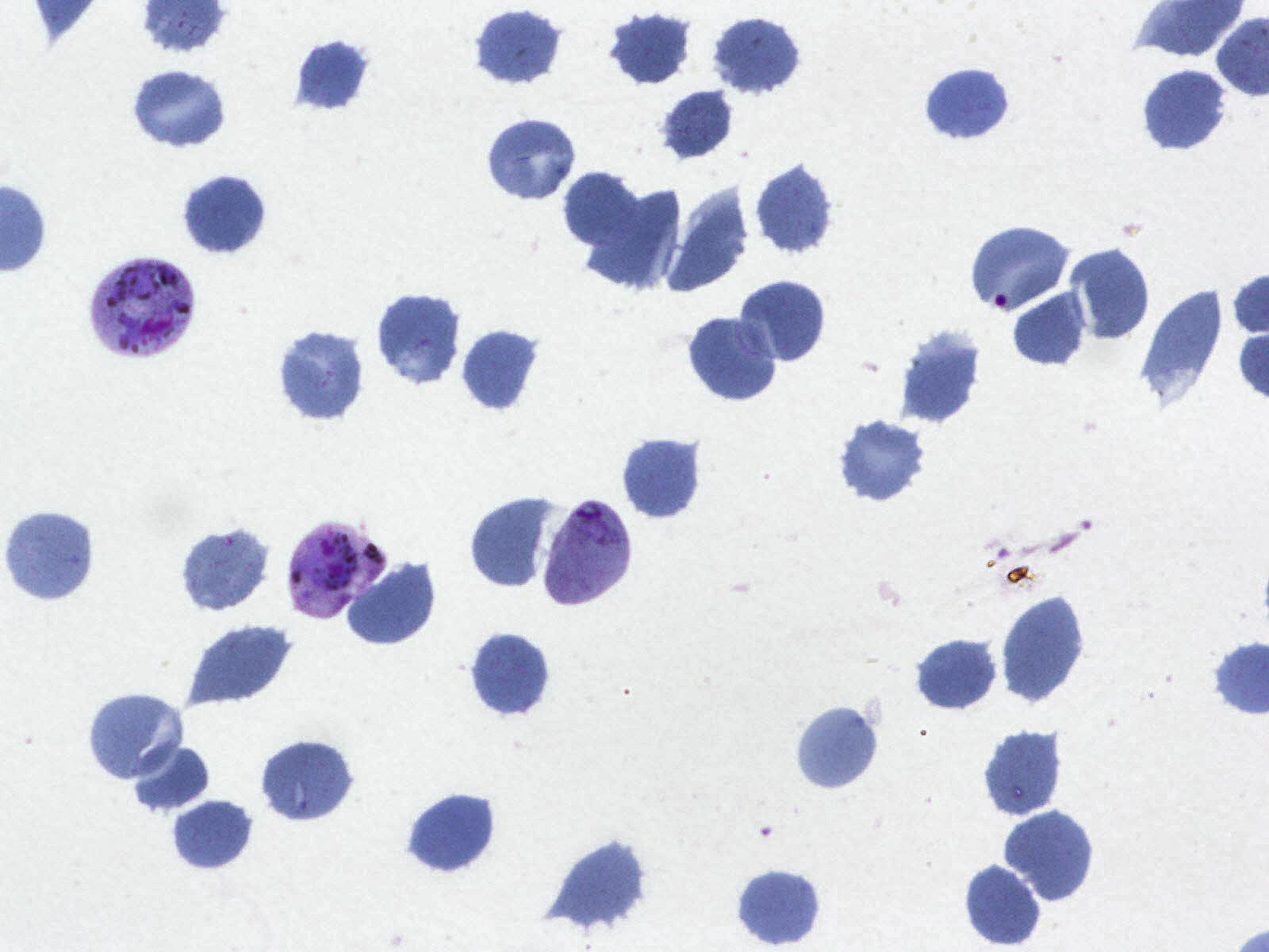Infected: (90, 258, 194, 359), (285, 518, 386, 619), (542, 500, 633, 607)
Uninfected: (583, 188, 681, 292), (1002, 590, 1087, 706), (1137, 289, 1223, 403), (971, 223, 1072, 315), (1003, 807, 1096, 906), (665, 183, 747, 294), (347, 554, 438, 651), (555, 834, 646, 931), (89, 691, 184, 783), (6, 508, 95, 605), (190, 618, 289, 705), (686, 314, 779, 405), (377, 290, 463, 388), (278, 328, 364, 424), (470, 493, 554, 591), (1069, 243, 1150, 344), (259, 738, 354, 824), (133, 67, 228, 151), (180, 524, 269, 612), (754, 160, 834, 257), (903, 327, 983, 424), (738, 278, 827, 365), (486, 117, 577, 202), (839, 416, 927, 502), (408, 789, 498, 873), (797, 702, 880, 792), (1143, 67, 1229, 153), (711, 13, 801, 95), (182, 172, 267, 257), (983, 727, 1060, 820), (470, 630, 551, 717), (475, 6, 563, 86), (621, 436, 702, 521), (1010, 284, 1090, 368), (129, 738, 213, 818), (737, 867, 822, 946), (462, 328, 540, 414), (966, 861, 1043, 948), (611, 6, 691, 86), (923, 60, 1007, 136), (172, 794, 255, 869), (918, 638, 1000, 713), (563, 169, 640, 246), (296, 38, 370, 113), (661, 86, 736, 160)
